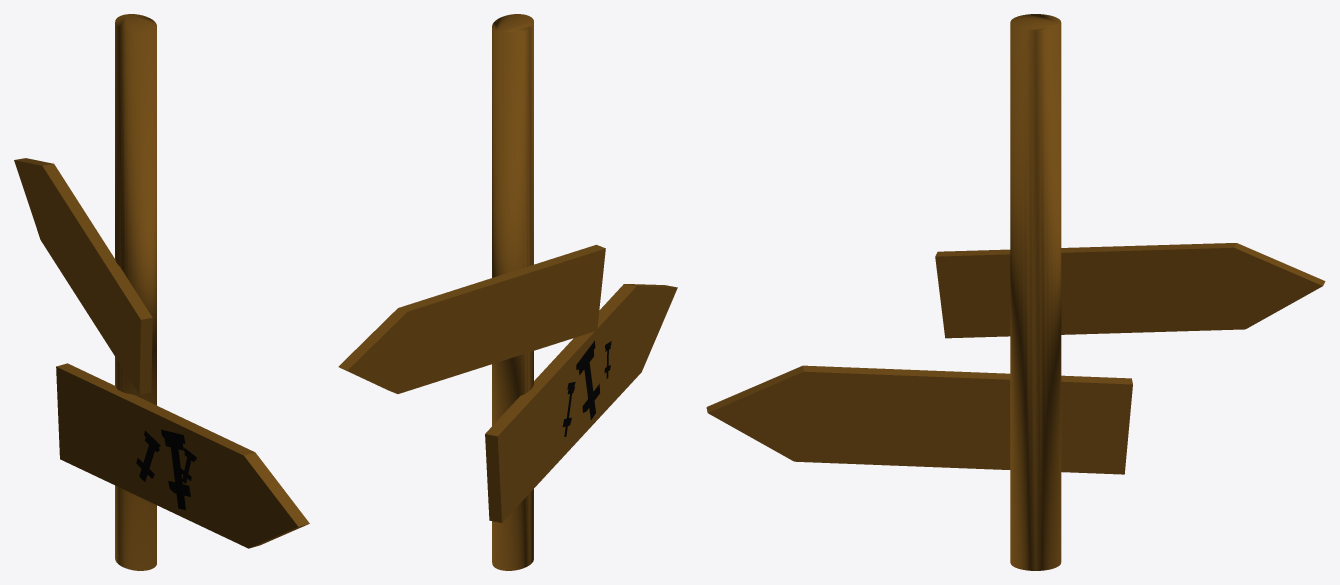
File: ukazatelproverka111.fbx
The picture shows the model from 3 angles, left to right: view 1: azimuth 30°, elevation 25°; view 2: azimuth 150°, elevation 25°; view 3: azimuth 270°, elevation 25°; orthographic projection.
Parts seen in each view (by area): view 1: Cube, Plane.001; view 2: Cube, Plane.001; view 3: Cube.
Part boxes in pixels (box(x1,y1,x2,y2)): Cube: box(14, 14, 309, 570); Plane.001: box(136, 429, 196, 510); Cube: box(338, 14, 677, 570); Plane.001: box(562, 340, 611, 436); Cube: box(706, 14, 1325, 570).
Size of the model in its own units: 47.62 by 320 by 332.
